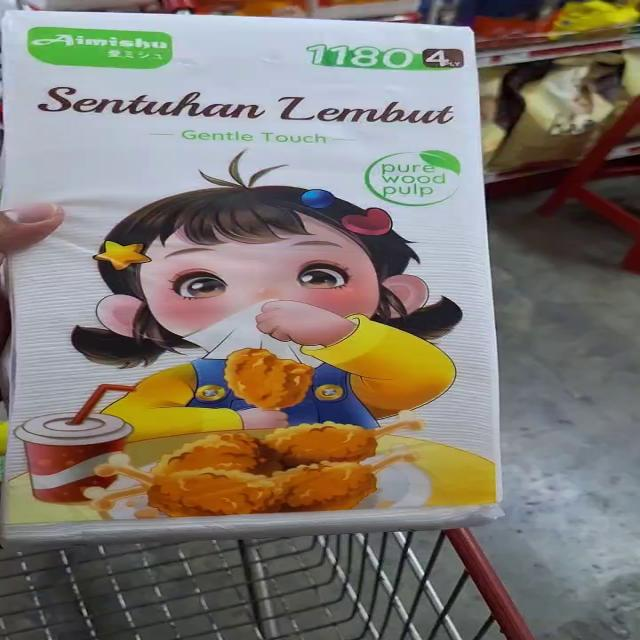Tisu: (3, 9, 502, 314), (0, 288, 560, 544)
